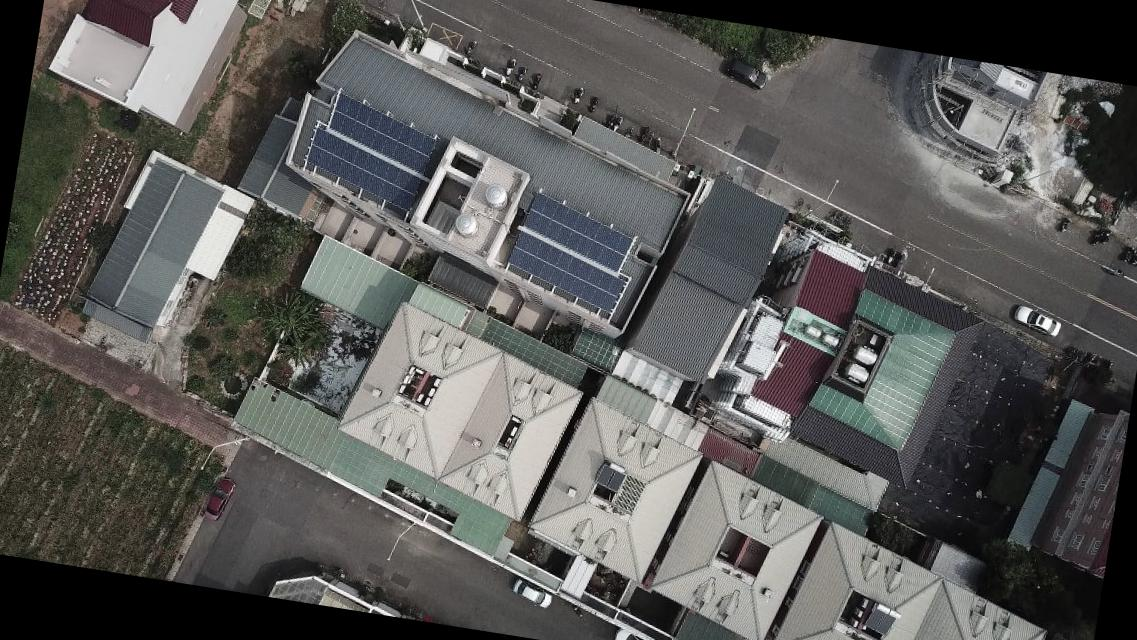vehicle: (720, 53, 771, 91), (202, 472, 236, 524), (1009, 303, 1062, 336), (510, 574, 556, 608), (611, 624, 666, 639)
